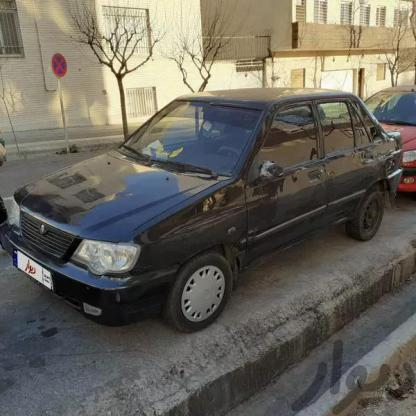Car: (0, 88, 404, 332), (363, 76, 416, 193)
